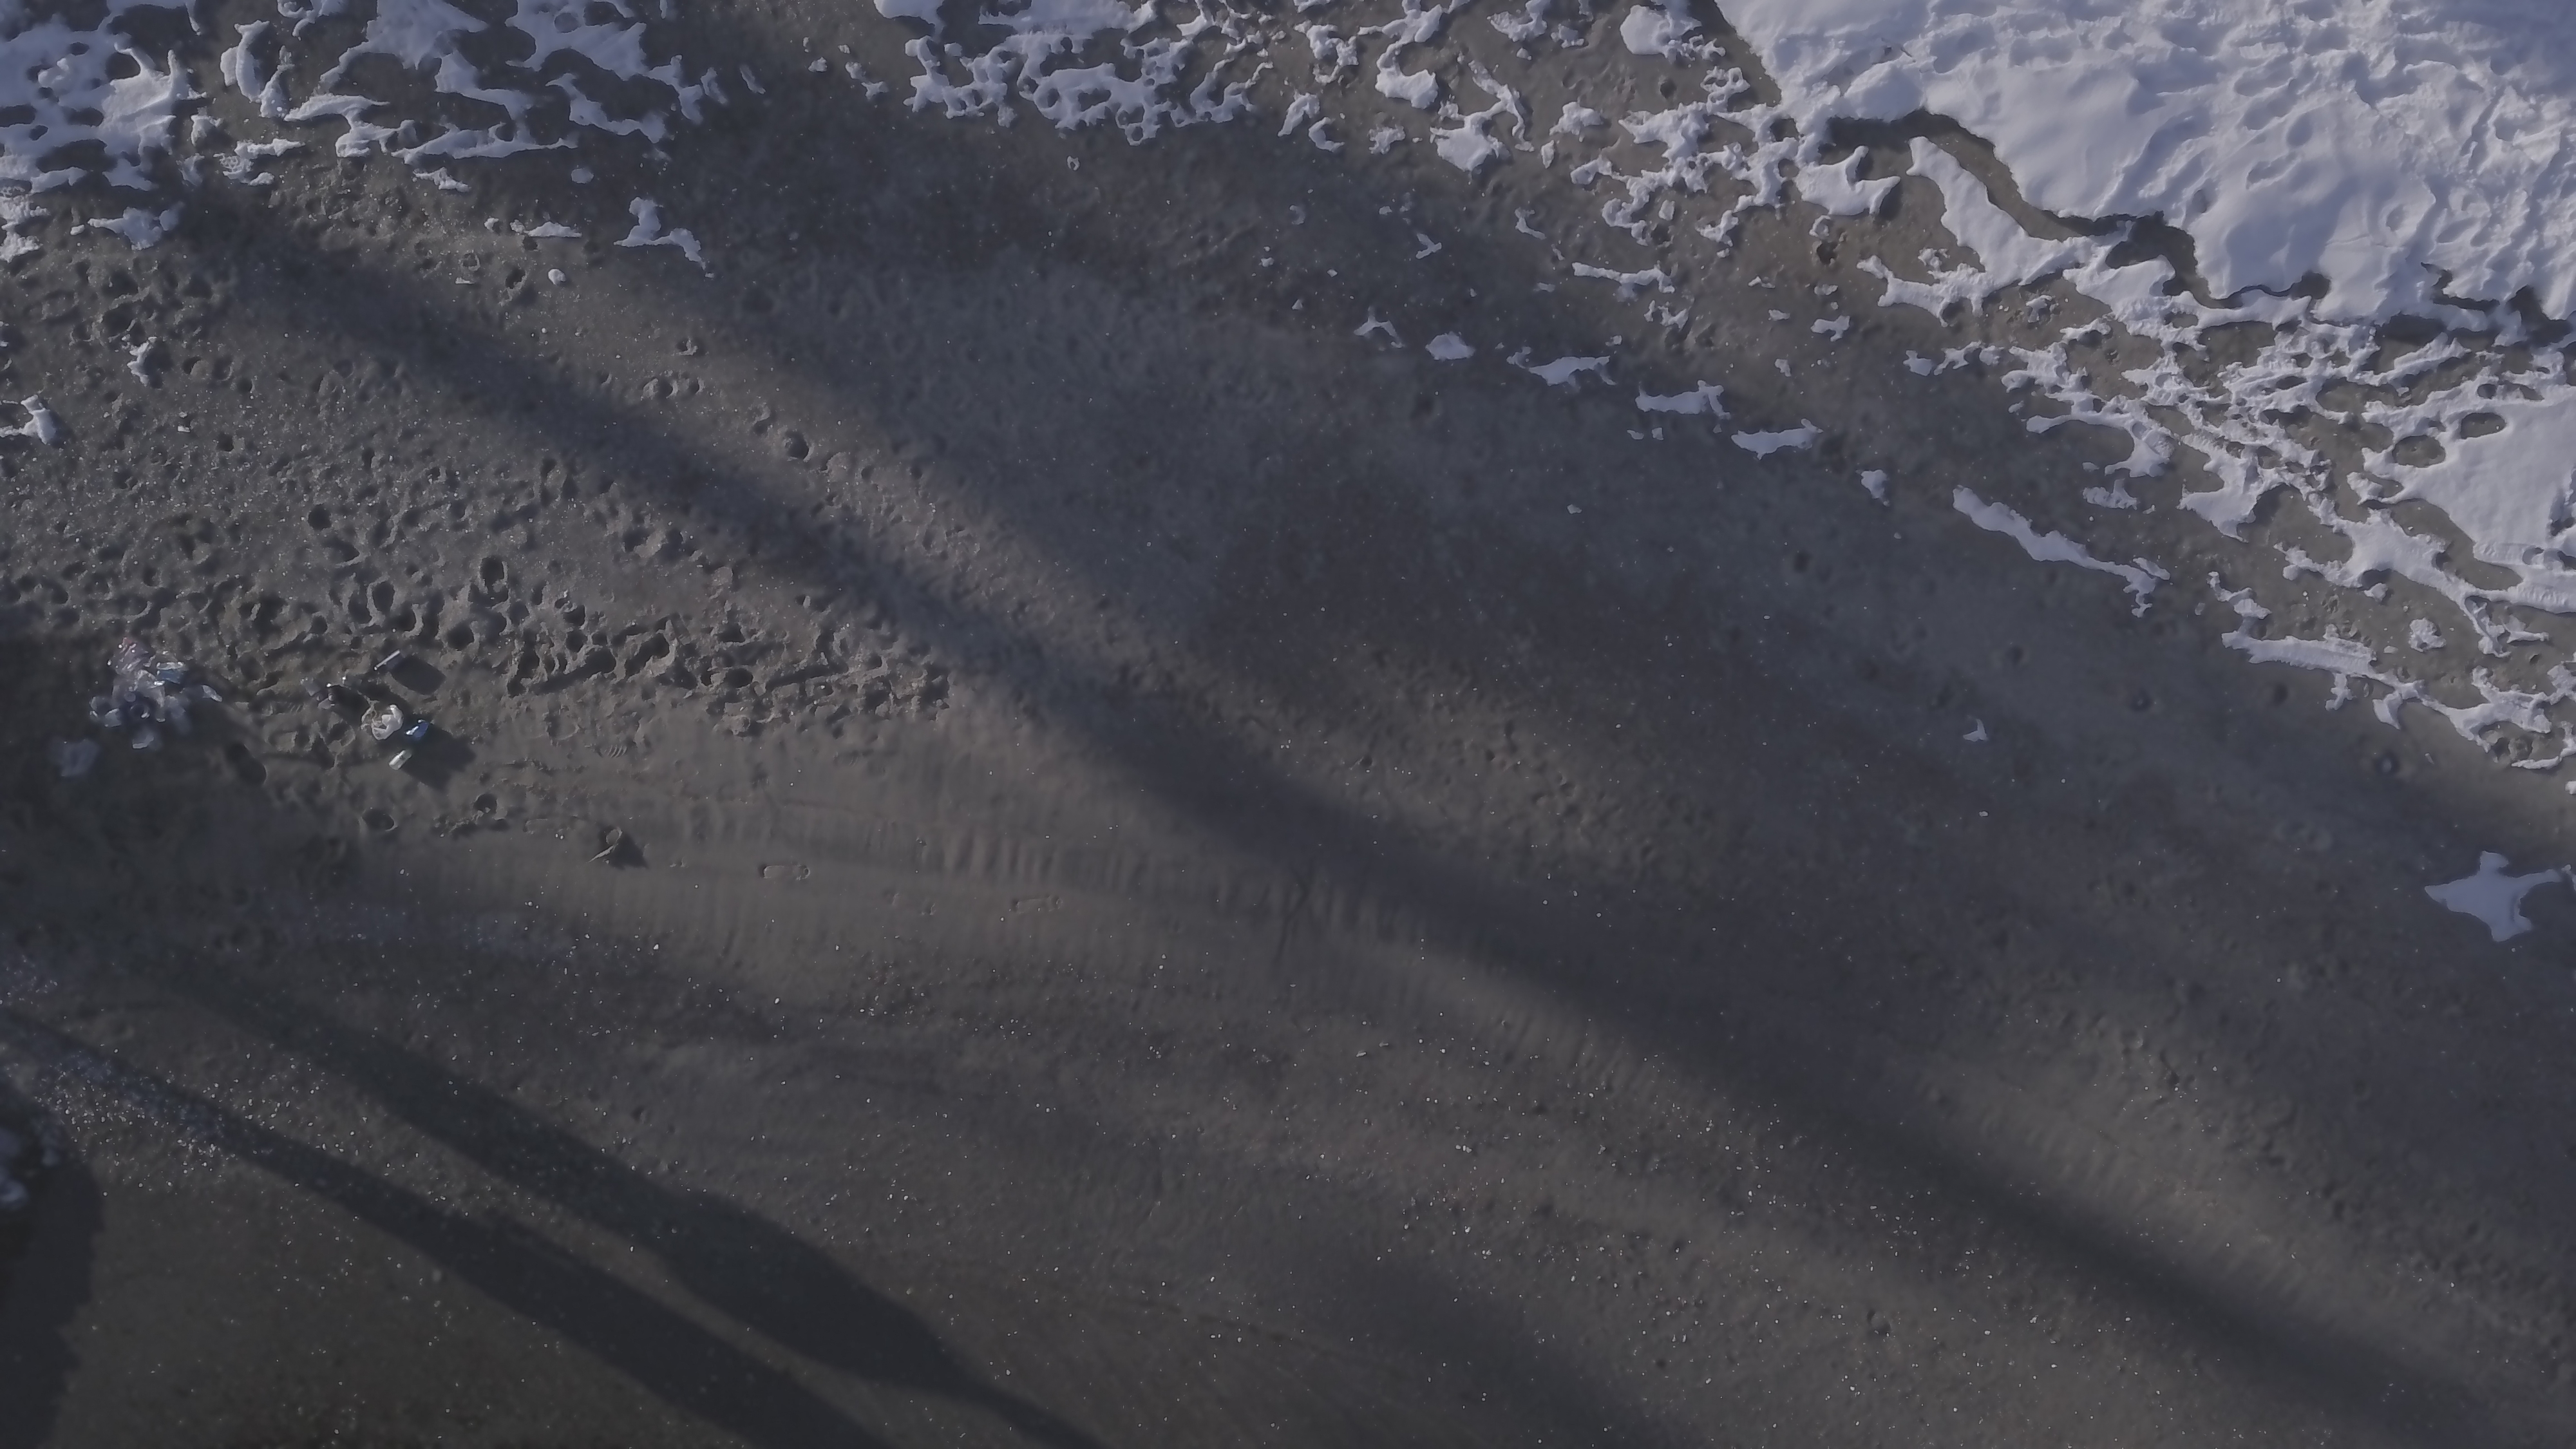Can: (375, 649, 407, 679), (407, 718, 432, 748), (327, 685, 343, 708), (119, 692, 140, 704)
Plastic: (113, 674, 196, 734), (85, 699, 168, 755), (55, 734, 103, 782), (361, 697, 405, 741), (147, 649, 195, 686), (108, 639, 154, 676), (182, 683, 225, 708)
PlasticBottle: (299, 678, 336, 715), (389, 745, 412, 771)
